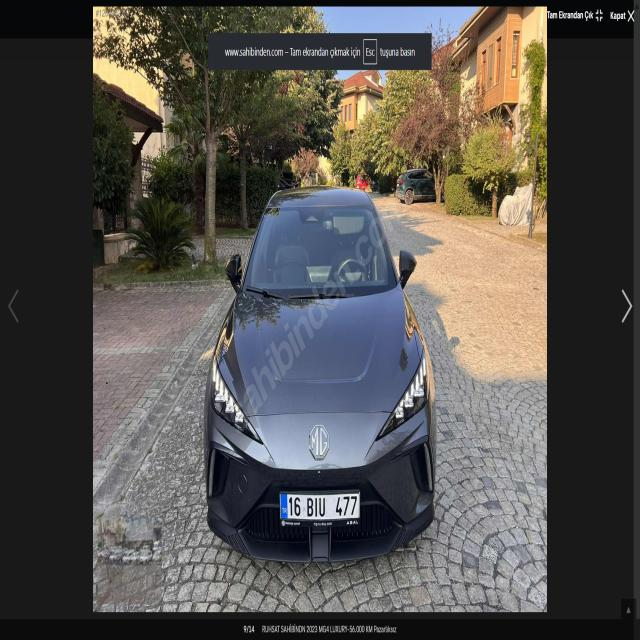mg: (300, 414, 341, 462)
